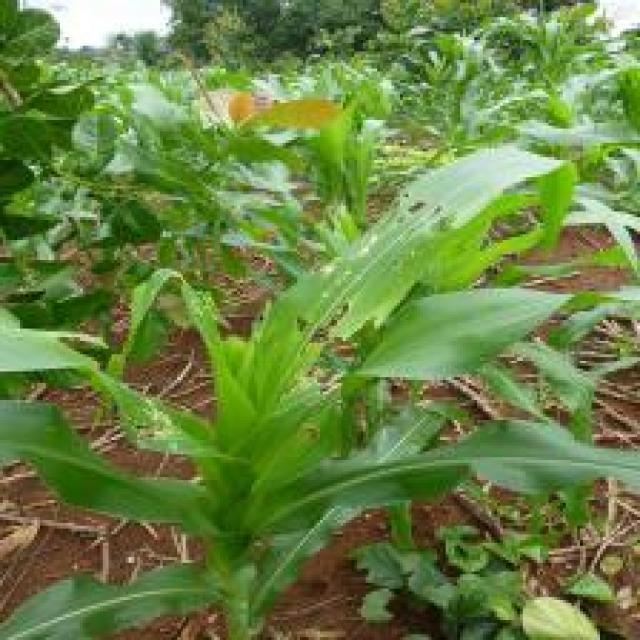Plaga: (324, 265, 349, 288), (366, 233, 383, 258), (190, 300, 207, 320)
